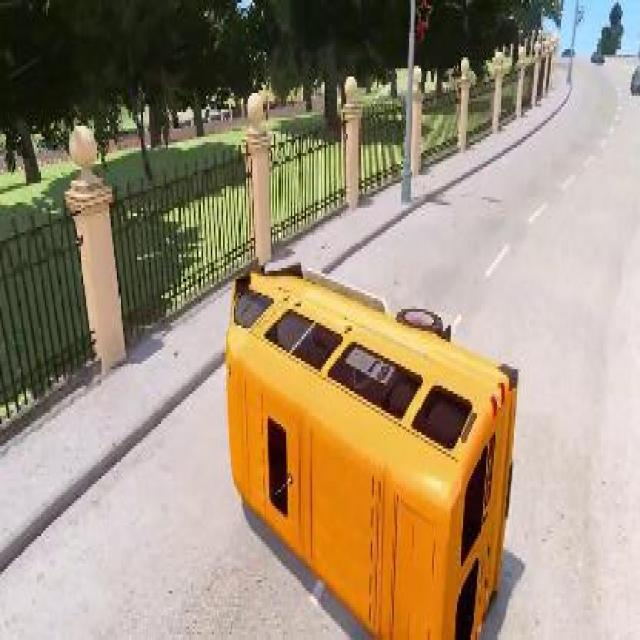accident: (214, 260, 523, 640)
